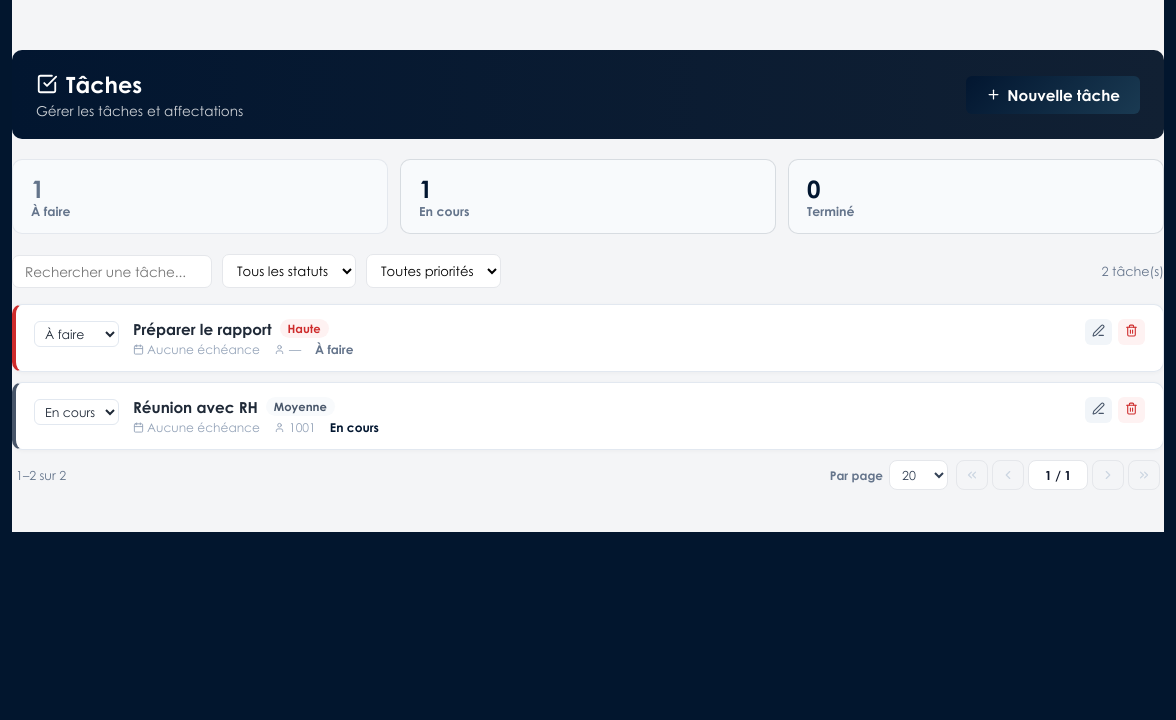
Test: TasksPage › filters tasks by search query
Expected: the text "Préparer le rapport" is shown, [133, 320, 272, 338]
Type "Réunion" into the field with placeholder "Rechercher une tâche..." at (112, 271), box [12, 254, 212, 288]
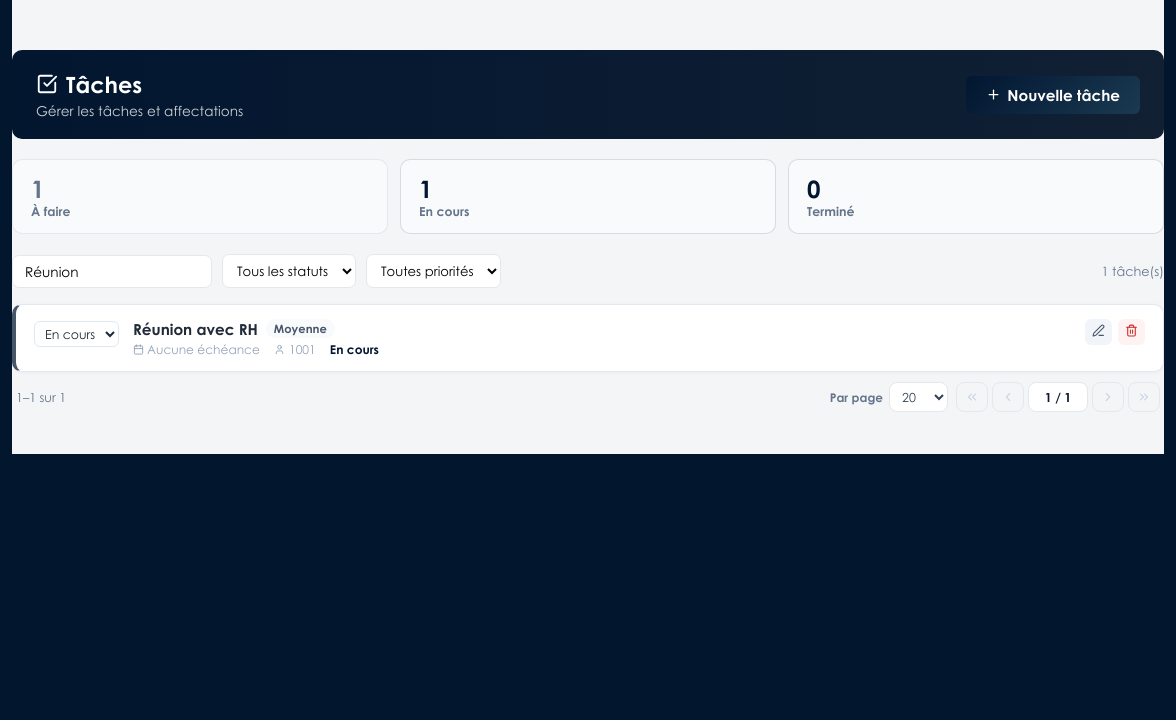
Expected: the text "Réunion avec RH" is shown, [133, 320, 258, 338]
Result: the text "Préparer le rapport" is gone
